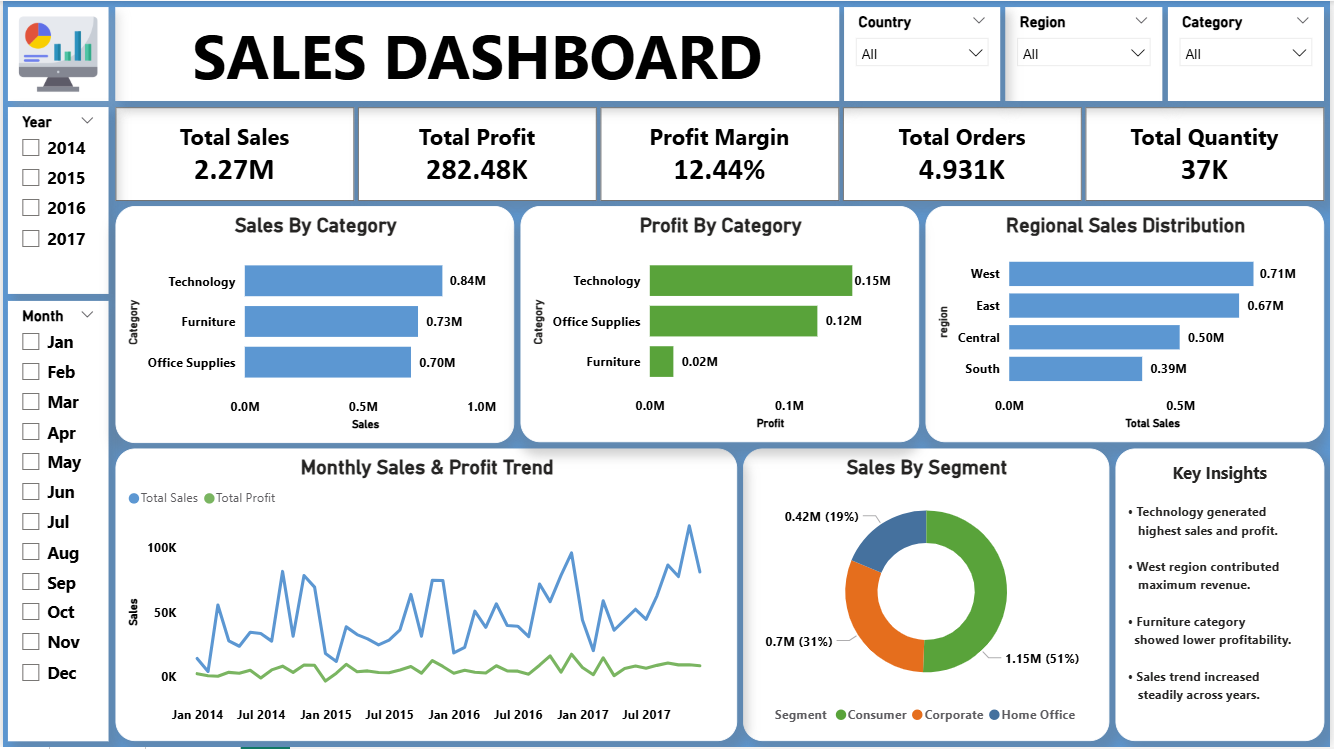

This screenshot's page, from the dashboard's own definition file:
{"tool":"powerbi","page":{"name":"Page 1","canvas":[1280,720],"ordinal":0},"visuals":[{"type":"cardVisual","title":"Total Sales","fields":{"Data":["fact_sales.Total Sales"]},"box":[108.6,102.5,230,90.5],"z":0},{"type":"cardVisual","title":"Total Profit","fields":{"Data":["fact_sales.Total Profit"]},"box":[342.5,102.5,230,90],"z":1000},{"type":"cardVisual","title":"Profit Margin","fields":{"Data":["fact_sales.Profit Margin"]},"box":[576.7,102.5,230,90.5],"z":2000},{"type":"cardVisual","title":"Total Orders","fields":{"Data":["fact_sales.Total Orders"]},"box":[810.7,102.5,230.4,90.5],"z":3000},{"type":"textbox","box":[108.6,5.8,698.5,90.5],"z":4000},{"type":"cardVisual","title":"Quantity","fields":{"Data":["fact_sales.Total Quantity"]},"box":[1045,102.5,230,90],"z":5000},{"type":"slicer","fields":{"Values":["fact_sales.region"]},"box":[967.9,5.8,151.1,90.5],"z":6000},{"type":"slicer","fields":{"Values":["fact_sales.category"]},"box":[1125,5.8,150,90],"z":7000},{"type":"shape","box":[4.8,5.8,96.5,90.5],"z":8000},{"type":"slicer","fields":{"Values":["fact_sales.Year"]},"box":[4.8,102.5,96.5,179.8],"z":9000},{"type":"slicer","fields":{"Values":["fact_sales.Month Name"]},"box":[4.8,289.5,96.5,424.7],"z":10000},{"type":"slicer","fields":{"Values":["fact_sales.country"]},"box":[811.9,5.8,150,90.5],"z":11000},{"type":"barChart","title":"Regional Sales Distribution","fields":{"Category":["fact_sales.region"],"Y":["fact_sales.Total Sales"]},"box":[890,197.5,385,228],"z":12000},{"type":"clusteredBarChart","title":"Sales By Category","fields":{"Category":["fact_sales.category"],"Y":["fact_sales.Total Sales"]},"box":[108.6,197.5,385,228.8],"z":13000},{"type":"donutChart","title":"Sales By Segment","fields":{"Category":["fact_sales.segment"],"Y":["fact_sales.Total Sales"]},"box":[714.2,431.9,353.5,282.3],"z":14000},{"type":"lineChart","title":"Monthly Sales & Profit Trend","fields":{"Y":["fact_sales.Total Sales","fact_sales.Total Profit"],"Category":["fact_sales.order_date.Variation.Date Hierarchy.Year","fact_sales.order_date.Variation.Date Hierarchy.Month"]},"box":[108.6,431.9,600,282.3],"z":15000},{"type":"image","box":[7.2,10.9,91.7,80.8],"z":16000},{"type":"clusteredBarChart","title":"Profit By Category","fields":{"Category":["fact_sales.category"],"Y":["fact_sales.Total Profit"]},"box":[499.5,197.9,384.9,228],"z":17000},{"type":"textbox","box":[1073.7,431.9,201.5,282.3],"z":18000}]}

Visuals, with their boxes in screenshot pixels (x1, y1, x2, y2), scaled from the page's 1280x720 canvas onto the 1334x749 screenshot:
"Total Sales" cardVisual: Rect(113, 107, 353, 201)
"Total Profit" cardVisual: Rect(357, 107, 597, 200)
"Profit Margin" cardVisual: Rect(601, 107, 841, 201)
"Total Orders" cardVisual: Rect(845, 107, 1085, 201)
textbox: Rect(113, 6, 841, 100)
"Quantity" cardVisual: Rect(1089, 107, 1329, 200)
slicer - fact_sales.region: Rect(1009, 6, 1166, 100)
slicer - fact_sales.category: Rect(1172, 6, 1329, 100)
shape: Rect(5, 6, 106, 100)
slicer - fact_sales.Year: Rect(5, 107, 106, 294)
slicer - fact_sales.Month Name: Rect(5, 301, 106, 743)
slicer - fact_sales.country: Rect(846, 6, 1002, 100)
"Regional Sales Distribution" barChart: Rect(928, 205, 1329, 443)
"Sales By Category" clusteredBarChart: Rect(113, 205, 514, 443)
"Sales By Segment" donutChart: Rect(744, 449, 1113, 743)
"Monthly Sales & Profit Trend" lineChart: Rect(113, 449, 738, 743)
image: Rect(8, 11, 103, 95)
"Profit By Category" clusteredBarChart: Rect(521, 206, 922, 443)
textbox: Rect(1119, 449, 1329, 743)
